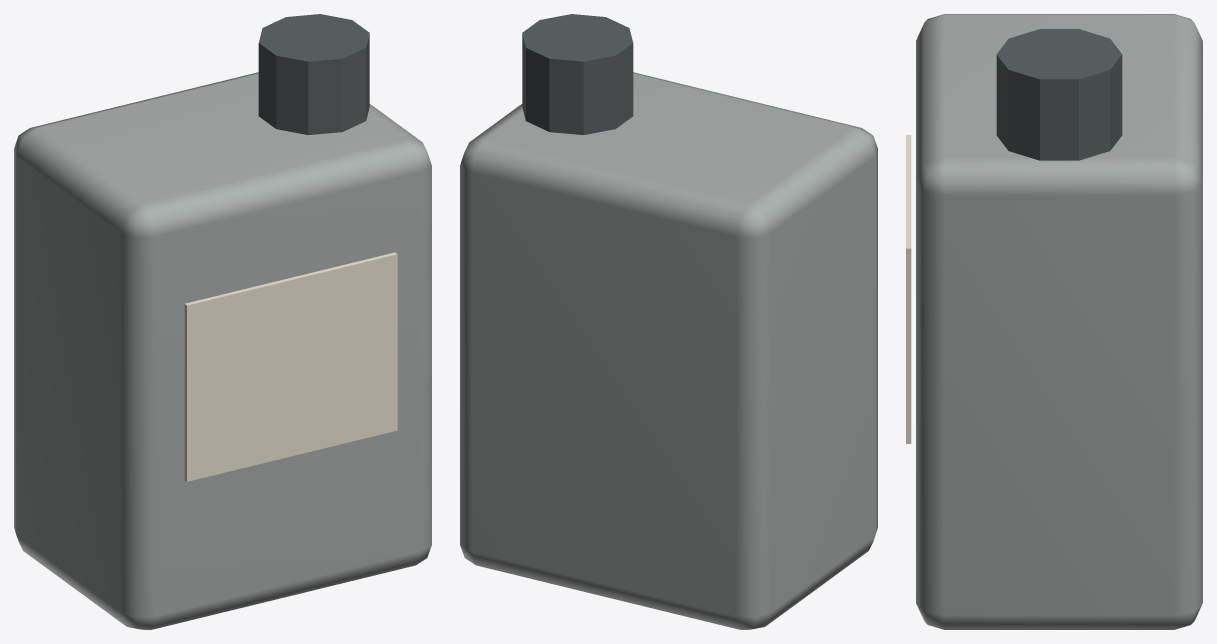
File: Equipment_GreaseTin.fbx
3 renders of one model, left to right at view 1: azimuth 30°, elevation 25°; view 2: azimuth 150°, elevation 25°; view 3: azimuth 270°, elevation 25°, orthographic. The views are drawn at different scales.
Parts seen in each view (by area): view 1: G17_pressed tin, G17_paper oil branding, G17_metal threaded spout; view 2: G17_pressed tin, G17_metal threaded spout; view 3: G17_pressed tin, G17_metal threaded spout, G17_paper oil branding.
Boxes of the visible parts, bbox=[...] form: G17_pressed tin: bbox=[14, 72, 431, 629]; G17_paper oil branding: bbox=[184, 252, 397, 481]; G17_metal threaded spout: bbox=[258, 14, 369, 134]; G17_pressed tin: bbox=[460, 72, 877, 629]; G17_metal threaded spout: bbox=[522, 14, 633, 134]; G17_pressed tin: bbox=[916, 14, 1202, 629]; G17_metal threaded spout: bbox=[996, 29, 1122, 160]; G17_paper oil branding: bbox=[906, 135, 911, 443].
Size of the model in its own units: 0.22 by 0.34 by 0.1655.
